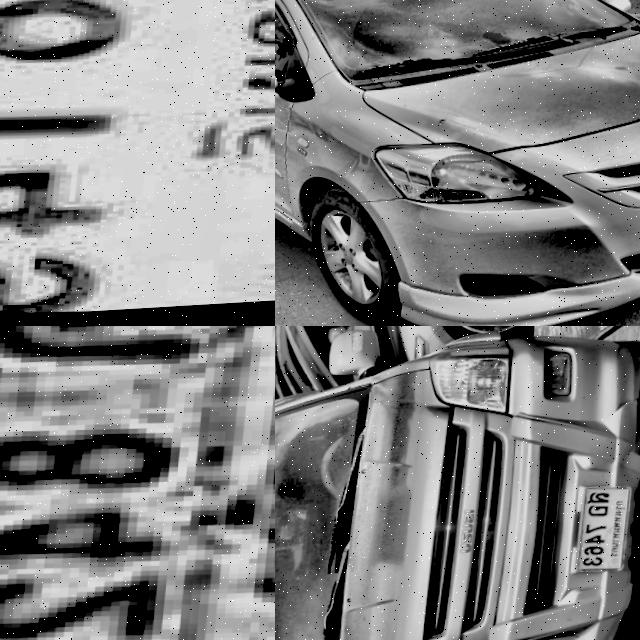license-plate: (0, 0, 275, 326), (0, 326, 275, 640), (569, 489, 640, 581)
